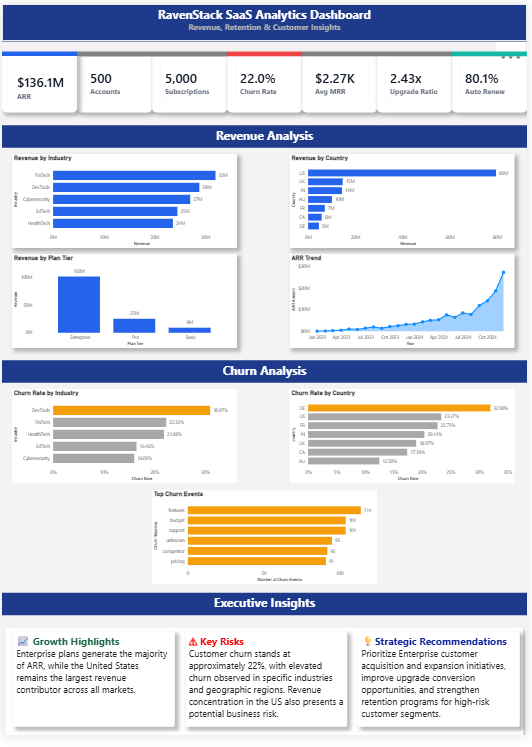

Layout of this report page (visuals, bound fields, positions):
{"tool":"powerbi","page":{"name":"Page 1","canvas":[1400,1950],"ordinal":0},"visuals":[{"type":"shape","box":[0,127.5,200,12],"z":0,"group":"g1"},{"type":"cardVisual","fields":{"Data":["saas_master.Total Accounts"]},"box":[200,127.5,200,162.5],"z":0},{"type":"cardVisual","fields":{"Data":["saas_master.Total Subscriptions"]},"box":[400,127.5,200,162.5],"z":1000},{"type":"shape","box":[200,127.8,200,13.3],"z":1000,"group":"g1"},{"type":"cardVisual","fields":{"Data":["saas_master.Churn Rate"]},"box":[600,127.5,200,162.5],"z":2000},{"type":"shape","box":[400,127.8,200,13.3],"z":2000,"group":"g1"},{"type":"shape","box":[600,127.5,200,13],"z":3000,"group":"g1"},{"type":"cardVisual","fields":{"Data":["saas_master.Average MRR"]},"box":[800,127.5,200,162.5],"z":3000},{"type":"shape","box":[800,127.5,200,13],"z":4000,"group":"g1"},{"type":"cardVisual","fields":{"Data":["saas_master.Upgrade Ratio Display"]},"box":[1000,127.5,200,162.5],"z":4000},{"type":"shape","box":[1000,127.5,200,13],"z":5000,"group":"g1"},{"type":"cardVisual","fields":{"Data":["saas_master.Auto Renew %"]},"box":[1200,127.5,200,162.5],"z":5000},{"type":"textbox","box":[0,0,1400,100],"z":6000},{"type":"shape","box":[1200,127.5,200,13],"z":6000,"group":"g1"},{"type":"cardVisual","fields":{"Data":["saas_master.Total ARR"]},"box":[0,127.5,200,162.5],"z":7000},{"type":"group","id":"g1","title":"Group 1","box":[0,127.5,1400,13.8],"z":8000},{"type":"clusteredBarChart","fields":{"Category":["saas_master.industry"],"Y":["Sum(saas_master.arr_amount)"]},"box":[27.5,400,600,250],"z":9000},{"type":"clusteredBarChart","fields":{"Category":["saas_master.country"],"Y":["Sum(saas_master.arr_amount)"]},"box":[765,400,600,250],"z":10000},{"type":"clusteredColumnChart","fields":{"Category":["saas_master.plan_tier"],"Y":["Sum(saas_master.arr_amount)"]},"box":[27.5,667.5,600,250],"z":11000},{"type":"textbox","box":[0,322.5,1400,60],"z":12000},{"type":"lineChart","title":"ARR Trend","fields":{"Y":["Sum(saas_master.arr_amount)"],"Category":["saas_master.start_date.Variation.Date Hierarchy.Year","saas_master.start_date.Variation.Date Hierarchy.Month"]},"box":[765,667.5,600,250],"z":13000},{"type":"textbox","box":[0,950,1400,60],"z":14000},{"type":"clusteredBarChart","title":"Churn Rate by Industry","fields":{"Y":["saas_master.Churn Rate"],"Category":["saas_master.industry"]},"box":[27.5,1027.5,600,250],"z":15000},{"type":"clusteredBarChart","title":"Churn Rate by Country","fields":{"Category":["saas_master.country"],"Y":["saas_master.Churn Rate"]},"box":[765,1027.5,600,250],"z":16000},{"type":"clusteredBarChart","title":"Top Churn Events","fields":{"Category":["ravenstack_churn_events.reason_code"],"Y":["CountNonNull(ravenstack_churn_events.reason_code)"]},"box":[400,1297.5,600,250],"z":17000},{"type":"textbox","box":[0,1570,1400,60],"z":18000},{"type":"shape","box":[0,1652.9,1400,347.1],"z":18001},{"type":"textbox","box":[28.3,1673.3,430,253.3],"z":18002},{"type":"textbox","box":[488.3,1673.3,430,253.3],"z":18003},{"type":"textbox","box":[950,1673.3,430,253.3],"z":18004}]}

Visuals, with their boxes in screenshot pixels (x1, y1, x2, y2), scaled from the page's 1400x1950 canvas onto the 532x747 screenshot:
shape: box(0, 49, 76, 53)
cardVisual - saas_master.Total Accounts: box(76, 49, 152, 111)
cardVisual - saas_master.Total Subscriptions: box(152, 49, 228, 111)
shape: box(76, 49, 152, 54)
cardVisual - saas_master.Churn Rate: box(228, 49, 304, 111)
shape: box(152, 49, 228, 54)
shape: box(228, 49, 304, 54)
cardVisual - saas_master.Average MRR: box(304, 49, 380, 111)
shape: box(304, 49, 380, 54)
cardVisual - saas_master.Upgrade Ratio Display: box(380, 49, 456, 111)
shape: box(380, 49, 456, 54)
cardVisual - saas_master.Auto Renew %: box(456, 49, 531, 111)
textbox: box(0, 0, 531, 38)
shape: box(456, 49, 531, 54)
cardVisual - saas_master.Total ARR: box(0, 49, 76, 111)
"Group 1" group: box(0, 49, 531, 54)
clusteredBarChart - saas_master.industry x Sum(saas_master.arr_amount): box(10, 153, 238, 249)
clusteredBarChart - saas_master.country x Sum(saas_master.arr_amount): box(291, 153, 519, 249)
clusteredColumnChart - saas_master.plan_tier x Sum(saas_master.arr_amount): box(10, 256, 238, 351)
textbox: box(0, 124, 531, 147)
"ARR Trend" lineChart: box(291, 256, 519, 351)
textbox: box(0, 364, 531, 387)
"Churn Rate by Industry" clusteredBarChart: box(10, 394, 238, 489)
"Churn Rate by Country" clusteredBarChart: box(291, 394, 519, 489)
"Top Churn Events" clusteredBarChart: box(152, 497, 380, 593)
textbox: box(0, 601, 531, 624)
shape: box(0, 633, 531, 746)
textbox: box(11, 641, 174, 738)
textbox: box(186, 641, 349, 738)
textbox: box(361, 641, 524, 738)
